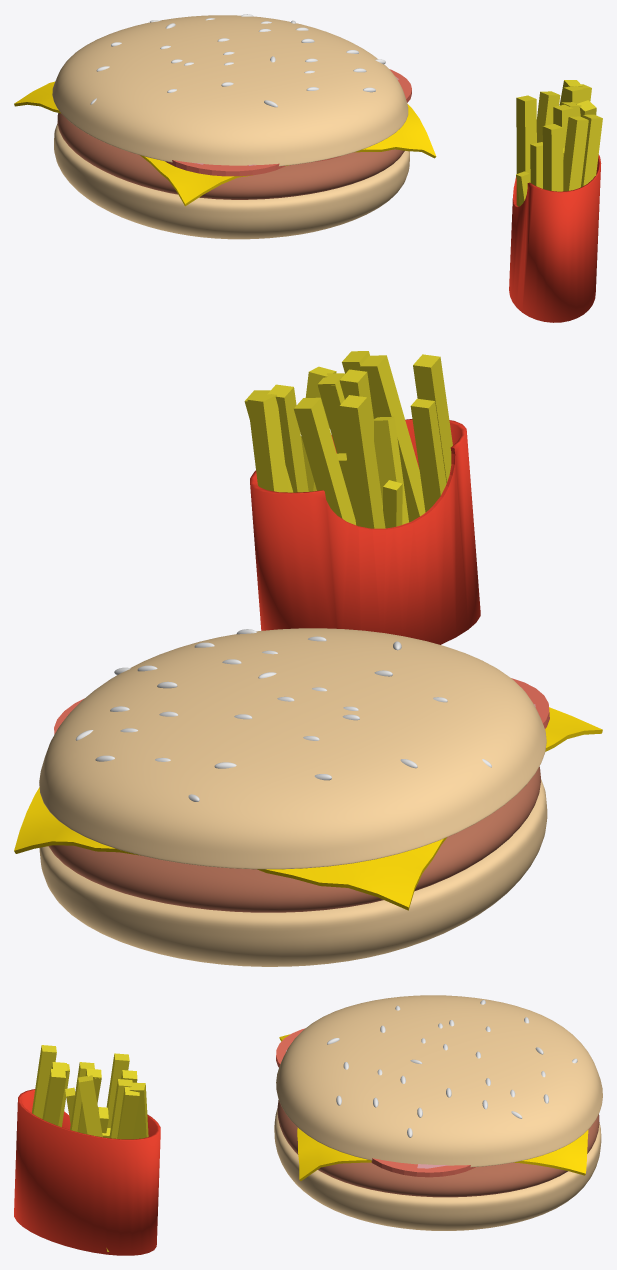
File: hamburger.glb
3 views of the same model, one above another, from view 1: azimuth 30°, elevation 25°; view 2: azimuth 150°, elevation 25°; view 3: azimuth 270°, elevation 25° (orthographic). The views are drawn at different scales.
Parts seen in each view (by area): view 1: Cube.002, Bottom burger, Cylinder.006, Meat, Cheese, frie.004, frie.016, frie.002, Cylinder.005, frie.008, frie.005, frie.014 (+1 smaller); view 2: Cube.002, Cylinder.006, Bottom burger, Meat, Cheese, frie.016, frie.005, frie.004, frie.012, frie.014, frie.002, frie.017 (+5 smaller); view 3: Cube.002, Cylinder.006, Bottom burger, Meat, Cheese, Cylinder.001, frie.002, frie.006, frie.008, frie.009, frie.016, frie.012 (+2 smaller).
Boxes of the visible parts, x1,y1,x2,y2 form: Cube.002: [52, 15, 408, 166]; Bottom burger: [54, 123, 409, 239]; Cylinder.006: [509, 154, 601, 322]; Meat: [57, 113, 404, 199]; Cheese: [14, 81, 436, 206]; frie.004: [563, 116, 588, 191]; frie.016: [516, 95, 536, 206]; frie.002: [542, 124, 563, 191]; Cylinder.005: [165, 160, 285, 176]; frie.008: [580, 114, 602, 187]; frie.005: [536, 91, 560, 142]; frie.014: [530, 142, 542, 188]; Cube.002: [39, 628, 546, 869]; Cylinder.006: [250, 419, 480, 644]; Bottom burger: [39, 779, 547, 966]; Meat: [48, 766, 540, 912]; Cheese: [14, 707, 602, 910]; frie.016: [339, 395, 385, 528]; frie.005: [294, 397, 355, 525]; frie.004: [360, 355, 425, 522]; frie.012: [247, 392, 288, 492]; frie.014: [410, 398, 446, 512]; frie.002: [413, 354, 452, 482]; frie.017: [267, 384, 308, 492]; Cube.002: [276, 995, 602, 1167]; Cylinder.006: [14, 1089, 160, 1255]; Bottom burger: [274, 1108, 601, 1230]; Meat: [277, 1100, 599, 1197]; Cheese: [279, 1034, 588, 1180]; Cylinder.001: [371, 1158, 475, 1177]; frie.002: [32, 1045, 56, 1118]; frie.006: [78, 1075, 108, 1251]; frie.008: [42, 1068, 65, 1125]; frie.009: [117, 1087, 139, 1139]; frie.016: [106, 1053, 129, 1127]; frie.012: [129, 1082, 148, 1139].
Size of the model in its own units: 10.42 by 5.75 by 16.42.
